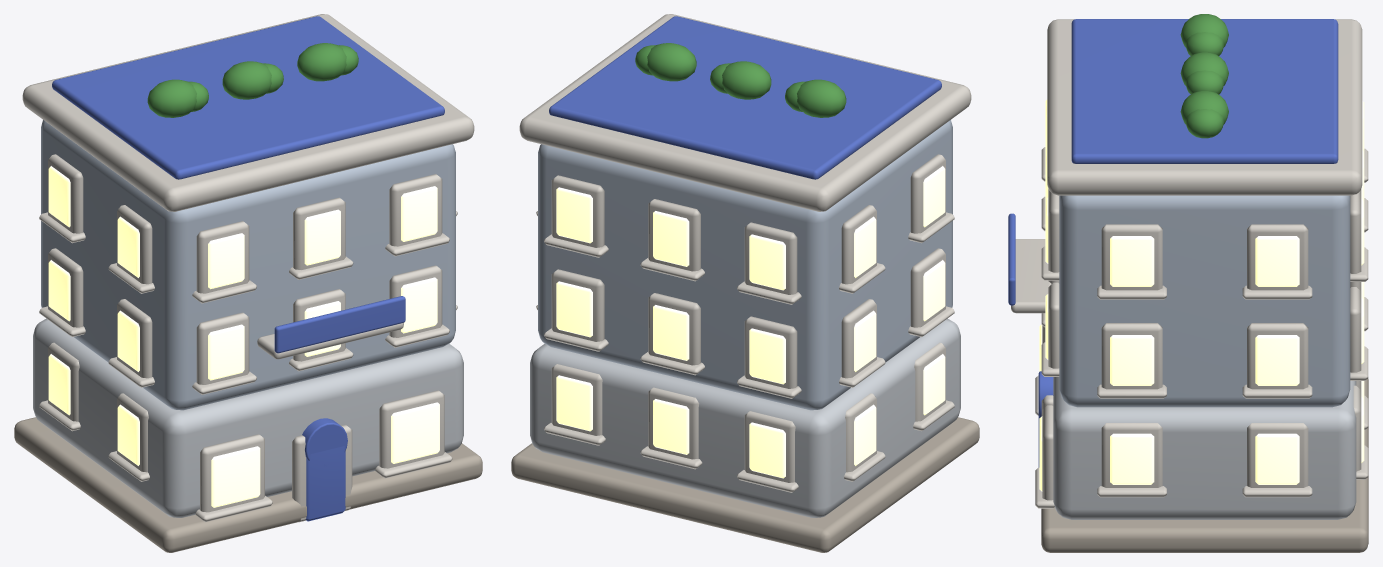
The picture shows the model from 3 angles, left to right: view 1: azimuth 30°, elevation 25°; view 2: azimuth 150°, elevation 25°; view 3: azimuth 270°, elevation 25°; orthographic projection. The views are drawn at different scales.
Parts seen in each view (by area): view 1: Cube; view 2: Cube; view 3: Cube.
Boxes of the visible parts, <box> form: Cube: <box>14,14,482,552</box>; Cube: <box>511,14,979,552</box>; Cube: <box>1008,14,1368,552</box>.
Size of the model in its own units: 0.64 by 0.7615 by 0.594.
